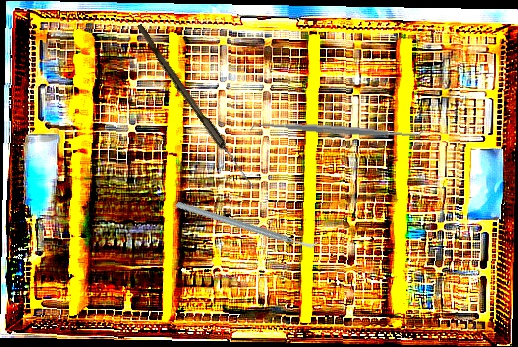Chopper: (174, 153, 322, 295)
Spatula Surgical: (248, 113, 428, 146)
Surgical Spoon: (132, 23, 259, 191)
